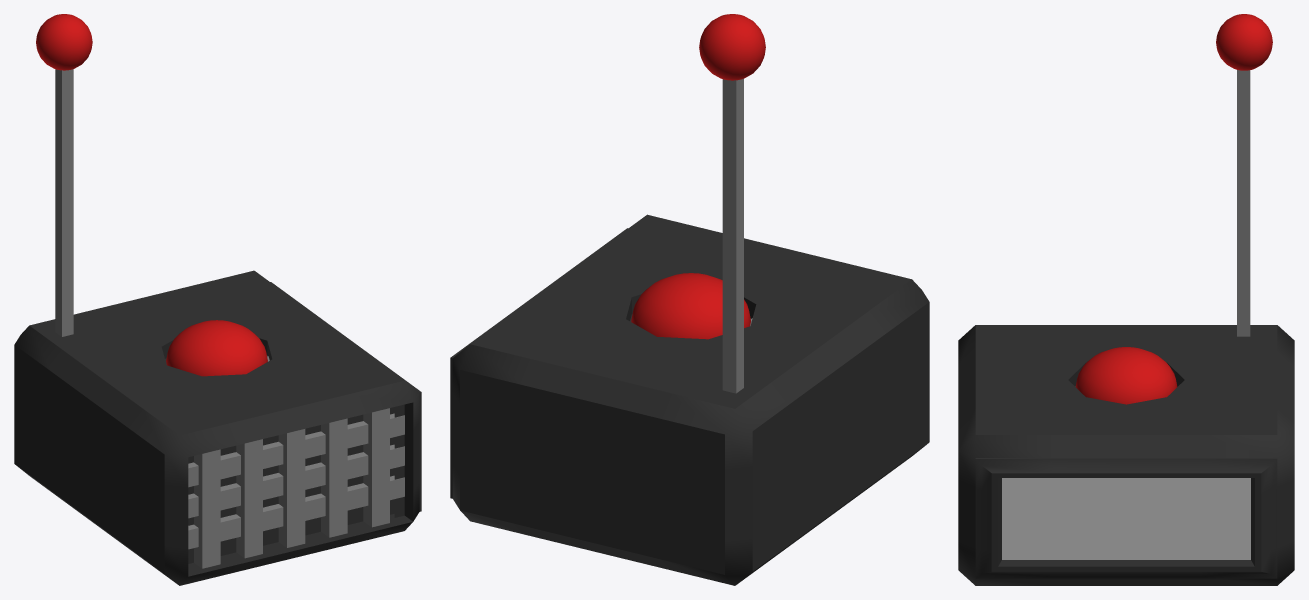
The model's file is Пипка хуипка.fbx.
The picture shows the model from 3 angles, left to right: view 1: azimuth 30°, elevation 25°; view 2: azimuth 150°, elevation 25°; view 3: azimuth 270°, elevation 25°; orthographic projection. The views are drawn at different scales.
Parts seen in each view (by area): view 1: Объект_Куб, Объект_Куб_1, Объект_Сфера, Объект_Куб_2, Объект_Куб_6, Объект_Куб_3, Объект_Куб_5, Объект_Куб_4, Объект_Куб_7, Объект_Куб_9, Объект_Куб_8, Объект_Сфера_1; view 2: Объект_Куб, Объект_Куб_1, Объект_Сфера, Объект_Сфера_1; view 3: Объект_Куб, Объект_Сфера, Объект_Куб_1, Объект_Сфера_1.
Boxes of the visible parts, x1=… form: Объект_Куб: x1=14, y1=270, x2=421, y2=585; Объект_Куб_1: x1=55, y1=69, x2=73, y2=336; Объект_Сфера: x1=166, y1=320, x2=267, y2=376; Объект_Куб_2: x1=278, y1=429, x2=305, y2=547; Объект_Куб_6: x1=267, y1=356, x2=347, y2=537; Объект_Куб_3: x1=194, y1=449, x2=220, y2=568; Объект_Куб_5: x1=236, y1=439, x2=262, y2=558; Объект_Куб_4: x1=363, y1=408, x2=389, y2=527; Объект_Куб_7: x1=188, y1=444, x2=404, y2=518; Объект_Куб_9: x1=188, y1=475, x2=404, y2=549; Объект_Куб_8: x1=188, y1=413, x2=404, y2=487; Объект_Сфера_1: x1=36, y1=14, x2=92, y2=70; Объект_Куб: x1=450, y1=214, x2=929, y2=585; Объект_Куб_1: x1=722, y1=78, x2=743, y2=393; Объект_Сфера: x1=631, y1=273, x2=750, y2=339; Объект_Сфера_1: x1=699, y1=14, x2=765, y2=80; Объект_Куб: x1=958, y1=325, x2=1294, y2=585; Объект_Сфера: x1=1075, y1=347, x2=1177, y2=404; Объект_Куб_1: x1=1237, y1=70, x2=1250, y2=336; Объект_Сфера_1: x1=1216, y1=14, x2=1272, y2=70.
Bounding box in the file's own units: 62.35 × 105 × 68.43.
